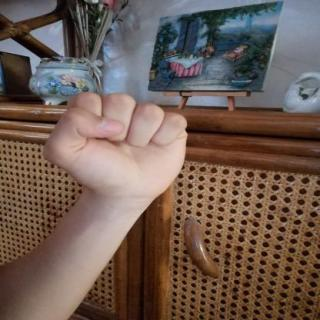SAD: (29, 80, 207, 209)
